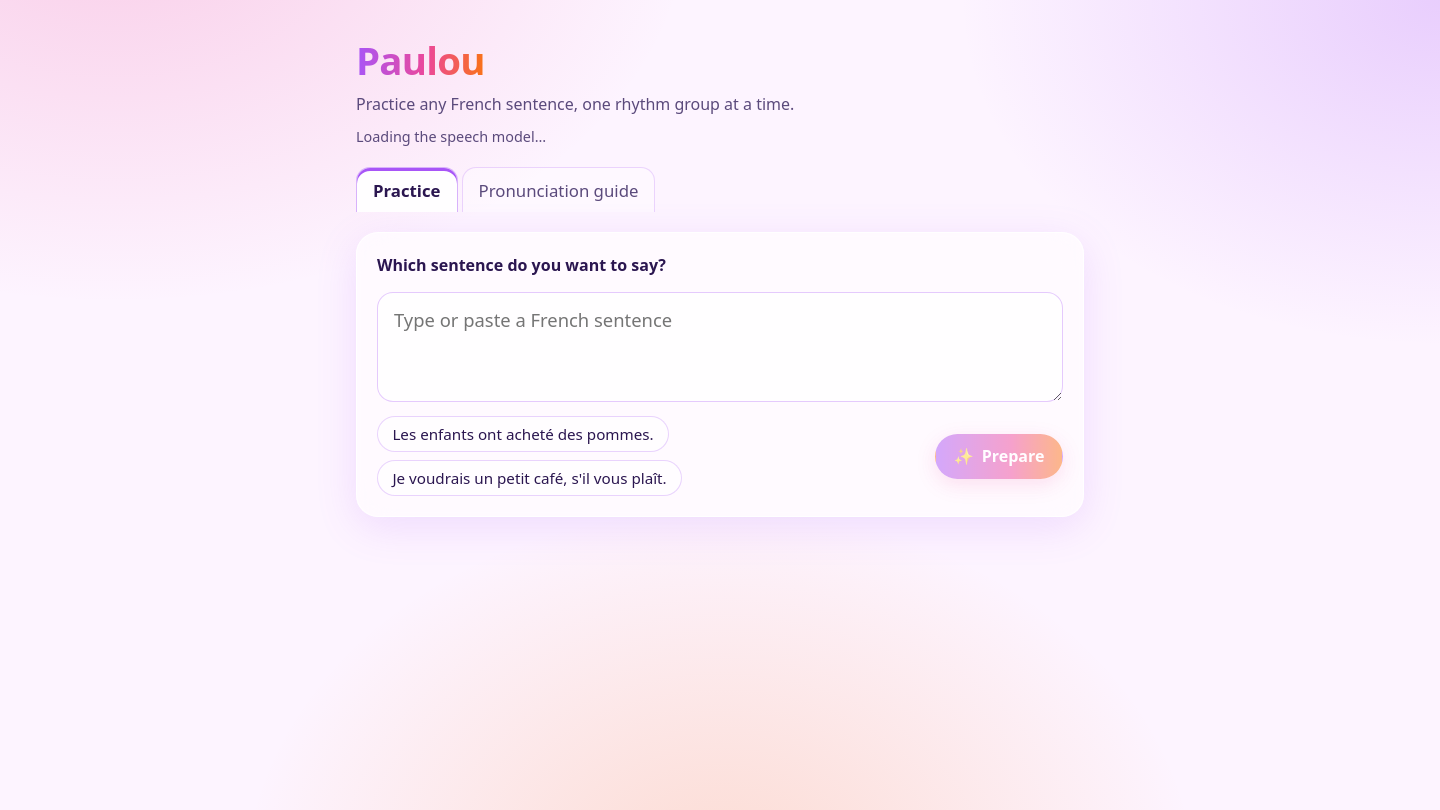
Test: App › locks recording until the speech model is ready
The width and height of the screenshot is (1440, 810).
Step 1. Type "Bonjour les amis" into the text box labelled "Which sentence do you want to say?" → (720, 347), box [377,292,1063,402]
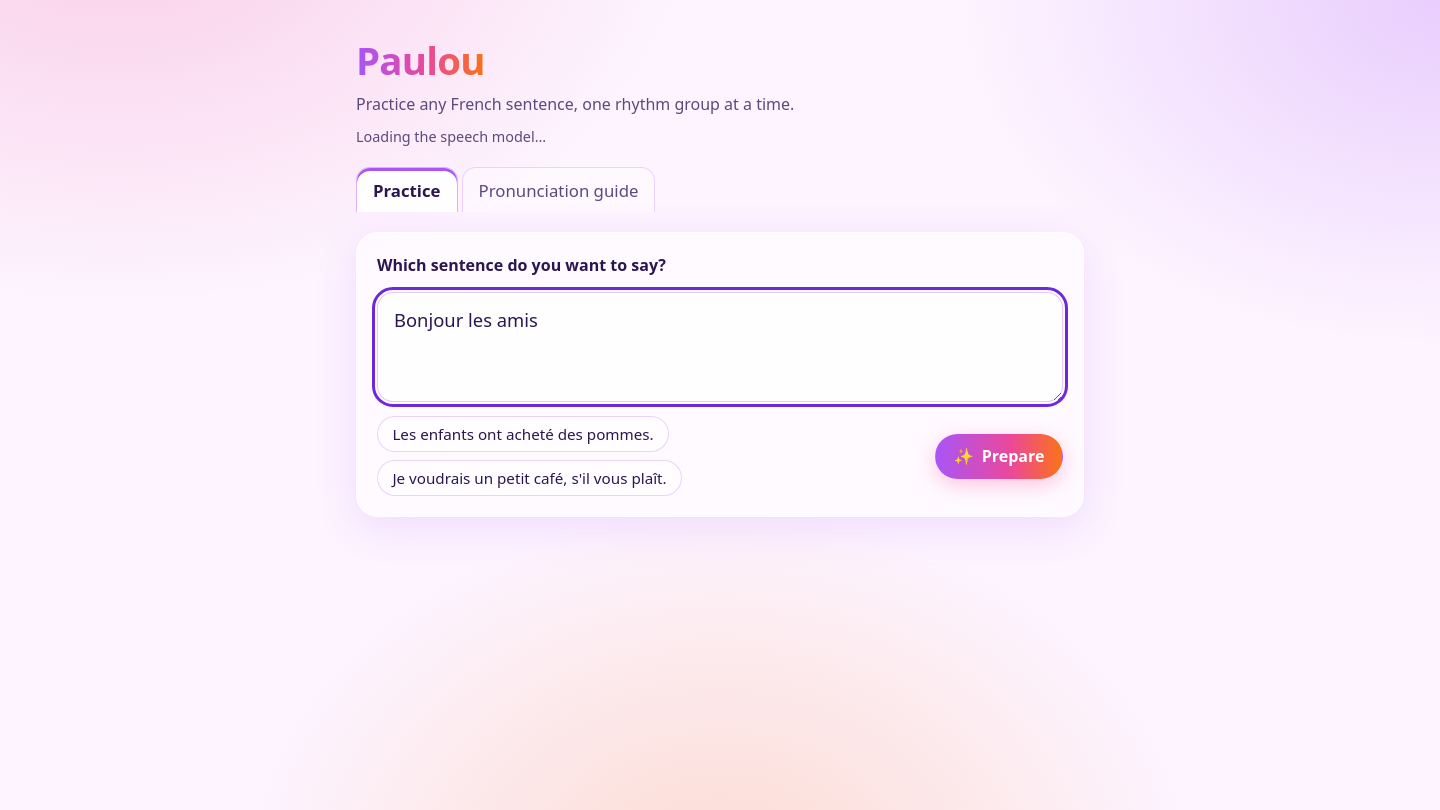
Step 2. Click the button "✨ Prepare" → (999, 456), box [935,434,1063,479]
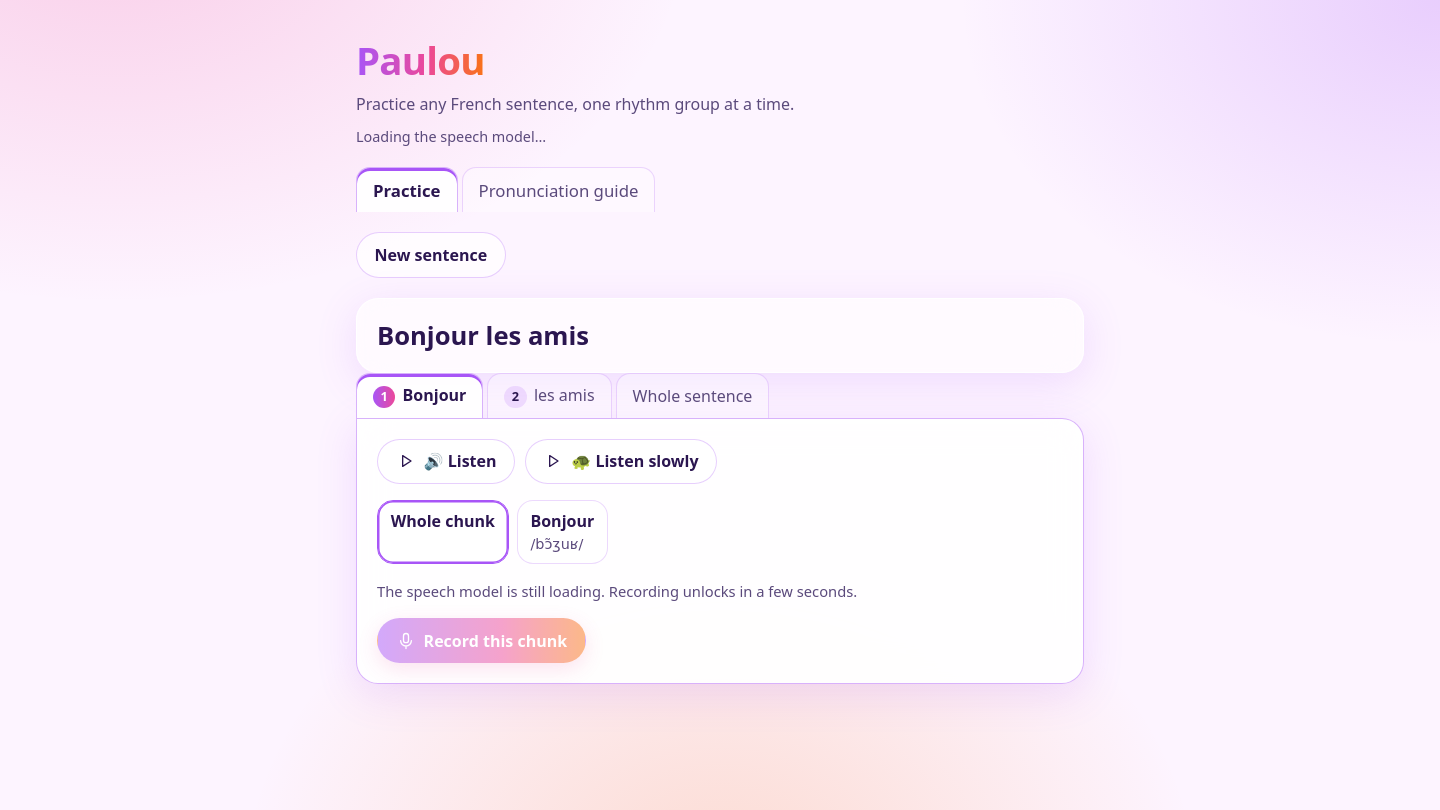
Expected: the button "Record this chunk" is disabled, [377,618,586,664]
Expected: the text "speech model is still loading" is shown, [377,581,857,601]
